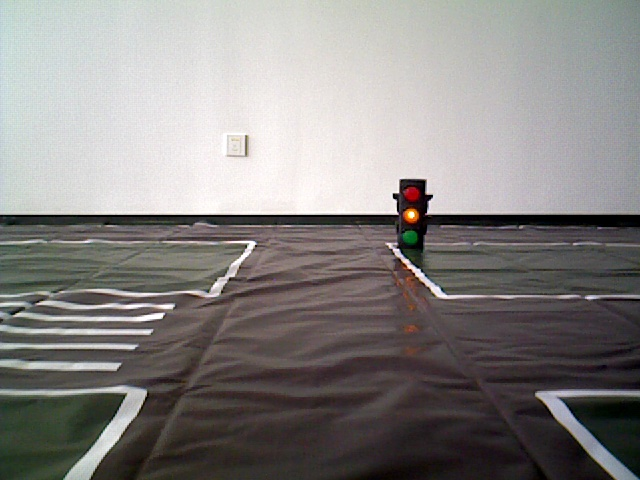yellow: (398, 176, 426, 248)
